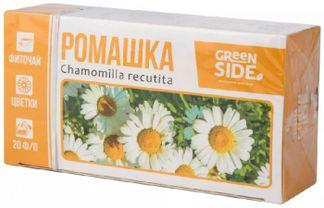chamomile: (183, 109, 259, 173), (121, 112, 178, 166), (71, 85, 135, 133), (85, 126, 133, 163), (164, 148, 202, 176), (58, 137, 88, 162)
